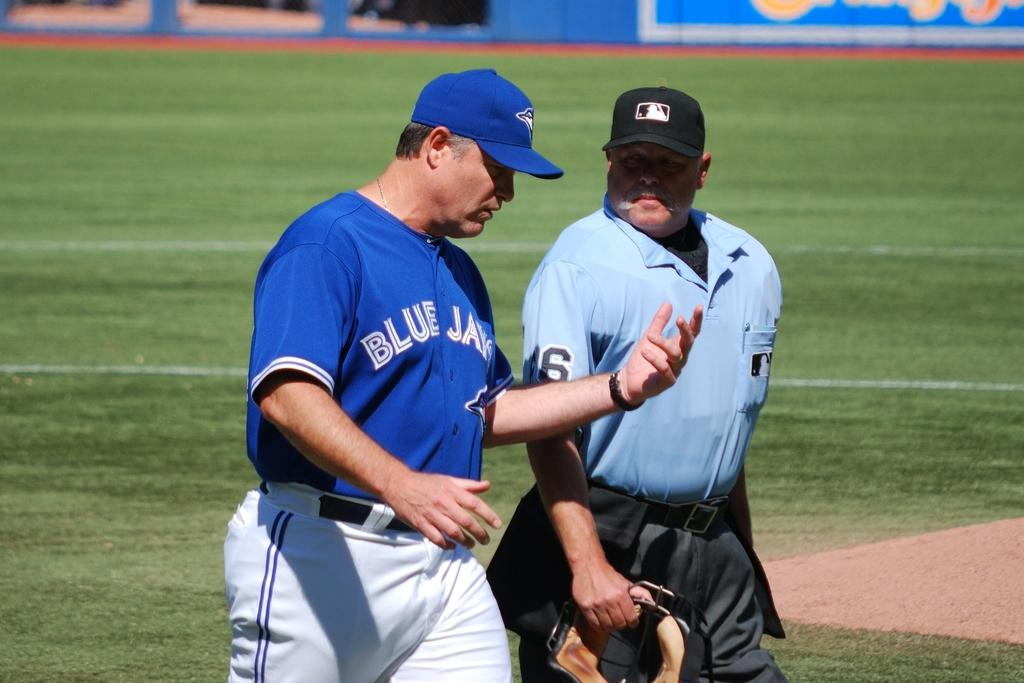Hat: (413, 67, 565, 183), (597, 84, 705, 160)
